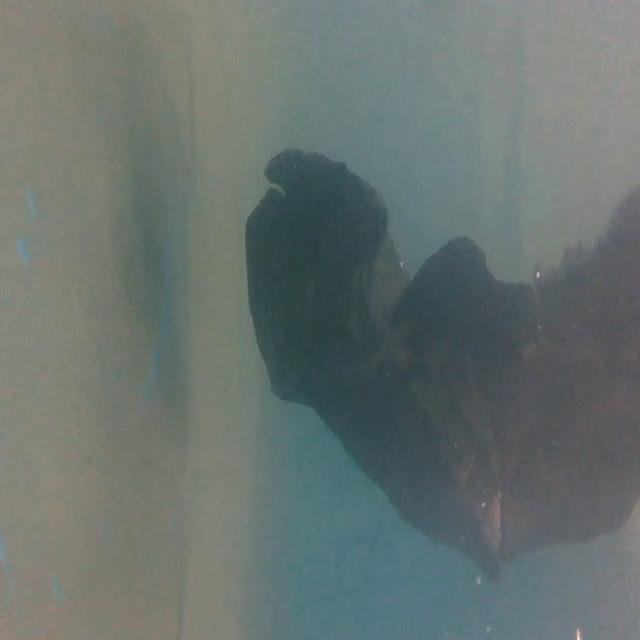plastic bags: (228, 139, 640, 555)
